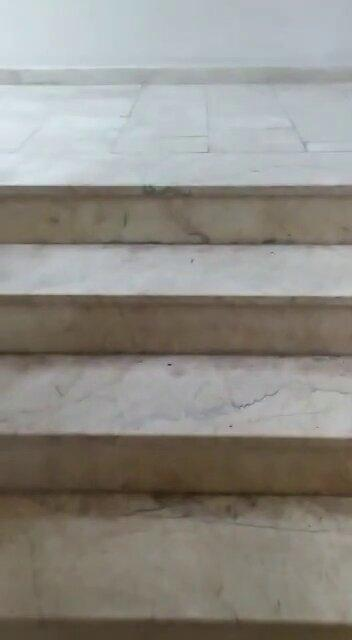Bench: (4, 165, 345, 629)
